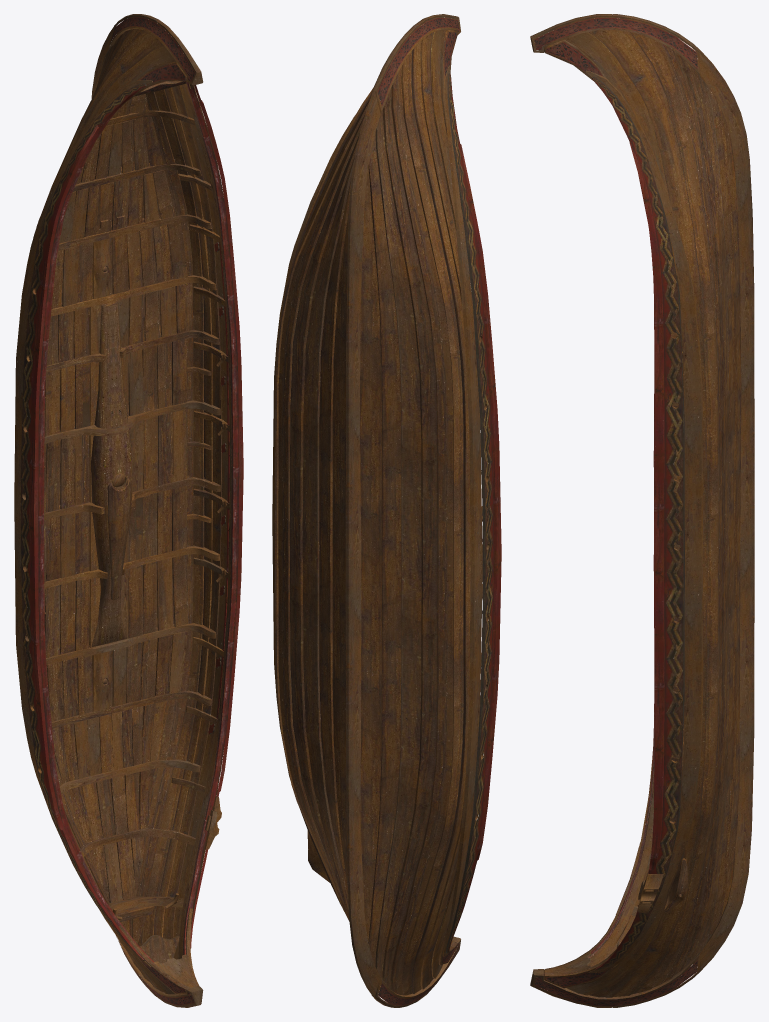
Rendered from VIK_PRO_Longship_Hull_01A_LOD0_1-transformed.glb.
3 views of the same model, side by side, from view 1: azimuth 30°, elevation 25°; view 2: azimuth 150°, elevation 25°; view 3: azimuth 270°, elevation 25° (orthographic).
Visible parts, largest first — view 1: VIK_PRO_Longship_Hull_01A_LOD0_1; view 2: VIK_PRO_Longship_Hull_01A_LOD0_1; view 3: VIK_PRO_Longship_Hull_01A_LOD0_1.
Part boxes in pixels (left/top/right/bottom): VIK_PRO_Longship_Hull_01A_LOD0_1: left=14, top=14, right=243, bottom=1007; VIK_PRO_Longship_Hull_01A_LOD0_1: left=272, top=14, right=501, bottom=1007; VIK_PRO_Longship_Hull_01A_LOD0_1: left=530, top=14, right=754, bottom=1007.
Size of the model in its own units: 0.0379 by 0.1679 by 0.0344.
Materials: 3 (3 with a texture image).
